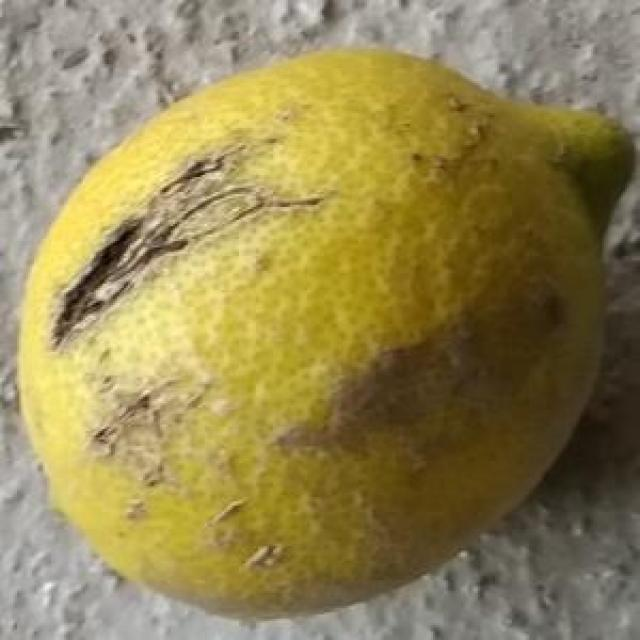lemon: (15, 29, 631, 620)
